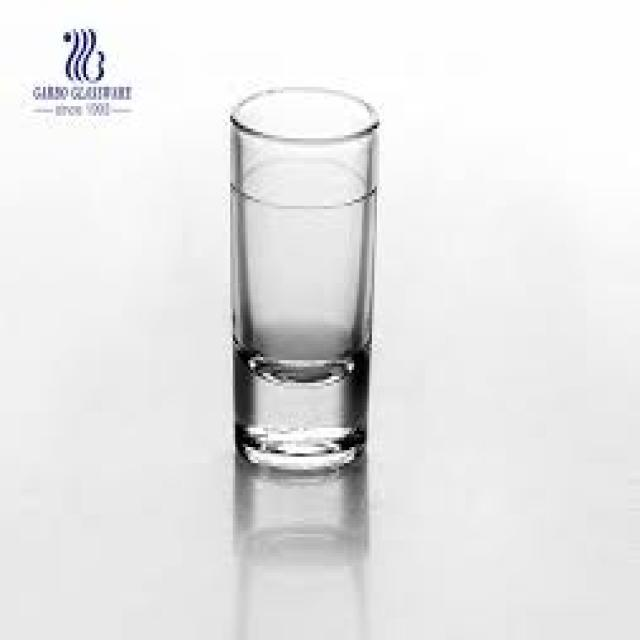Glass: (228, 88, 378, 474)
